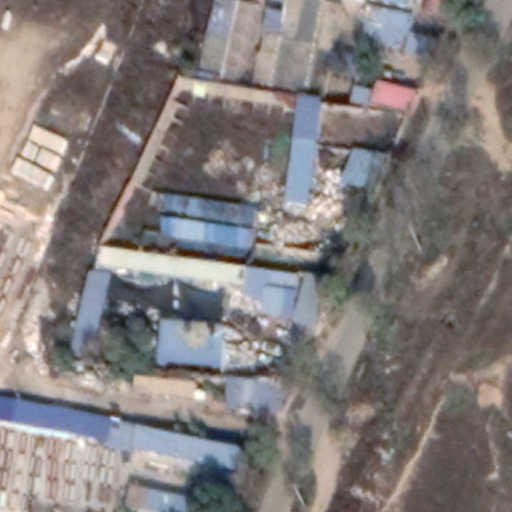msw: (252, 164, 352, 250)
